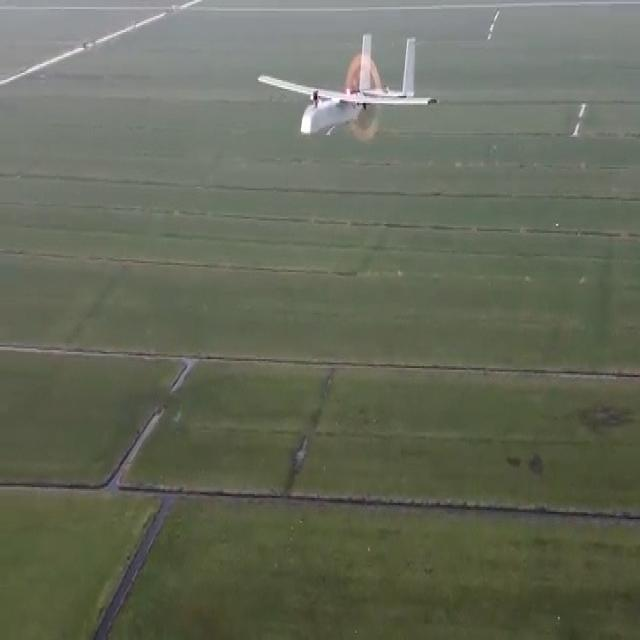drones: (257, 32, 447, 155)
